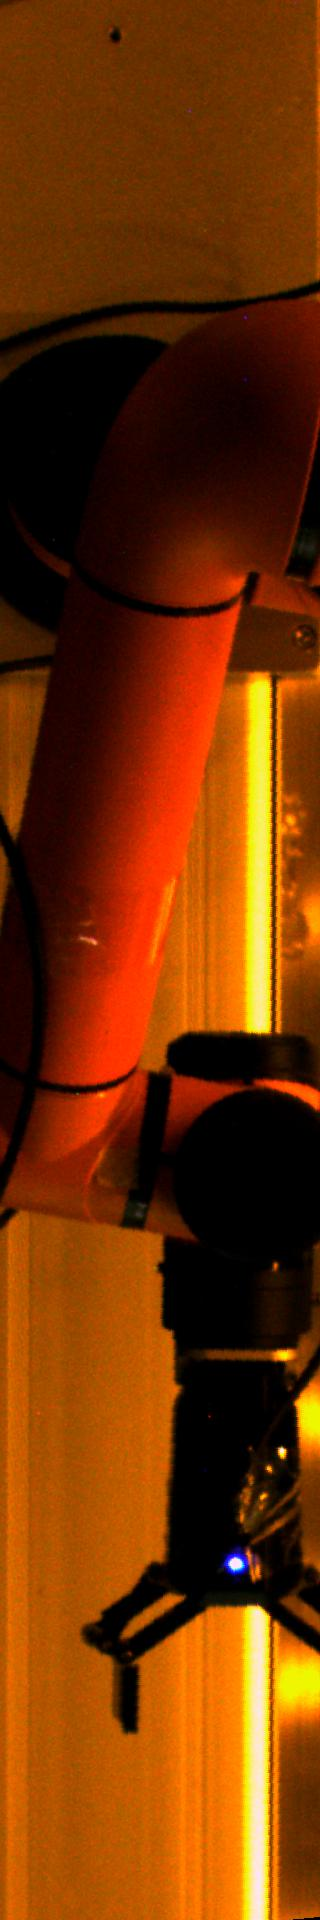keyPoint_1: (221, 1545, 251, 1575)
keyPoint_2: (101, 20, 130, 50)
